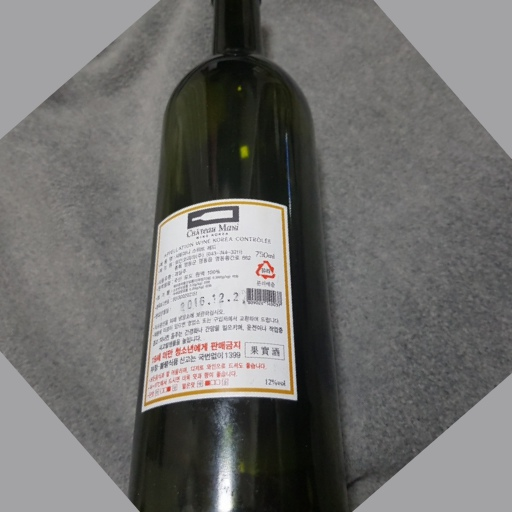Glass_2: (126, 2, 351, 512)
